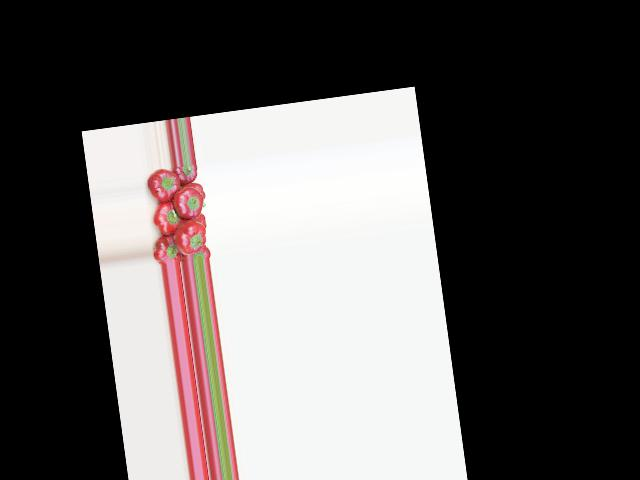bell_pepper: (193, 212, 208, 227)
